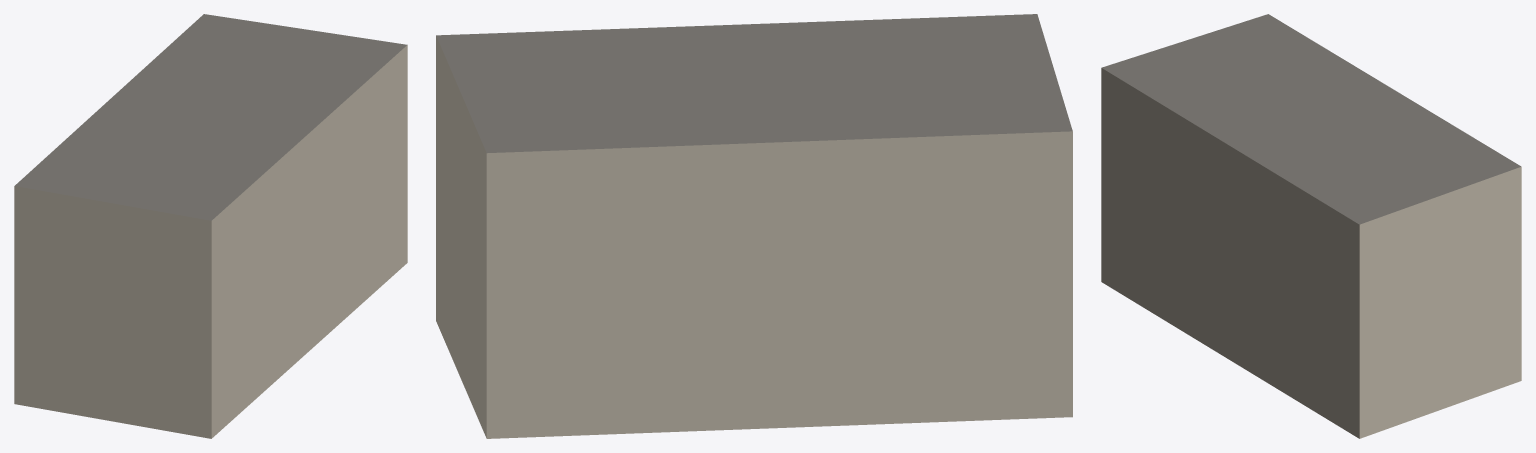
The picture shows the model from 3 angles, left to right: view 1: azimuth 30°, elevation 25°; view 2: azimuth 150°, elevation 25°; view 3: azimuth 270°, elevation 25°; orthographic projection. The views are drawn at different scales.
Visible parts, largest first — view 1: HP-w731233913; view 2: HP-w731233913; view 3: HP-w731233913.
Boxes of the visible parts, box(x1,y1,x2,y2) form: HP-w731233913: box(14, 14, 407, 438); HP-w731233913: box(436, 14, 1072, 438); HP-w731233913: box(1101, 14, 1521, 438).
Size of the model in its own units: 37.96 by 18 by 32.
